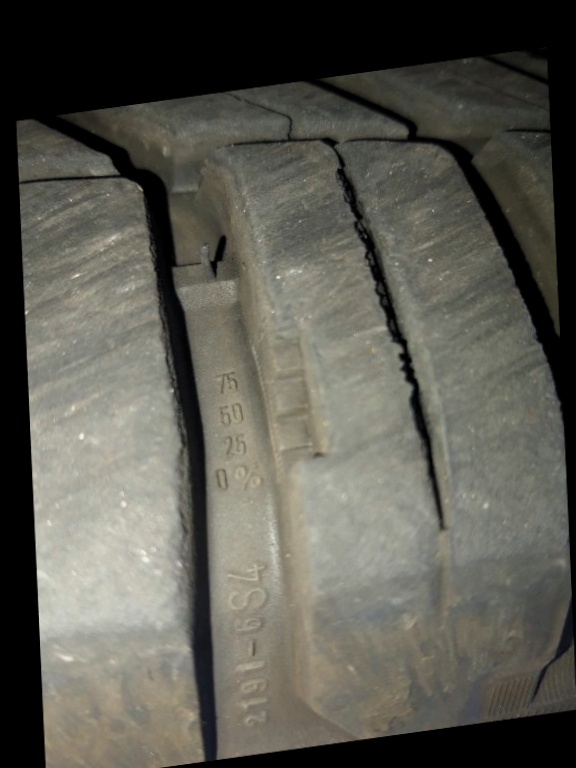temoin:90: (244, 295, 334, 494)
